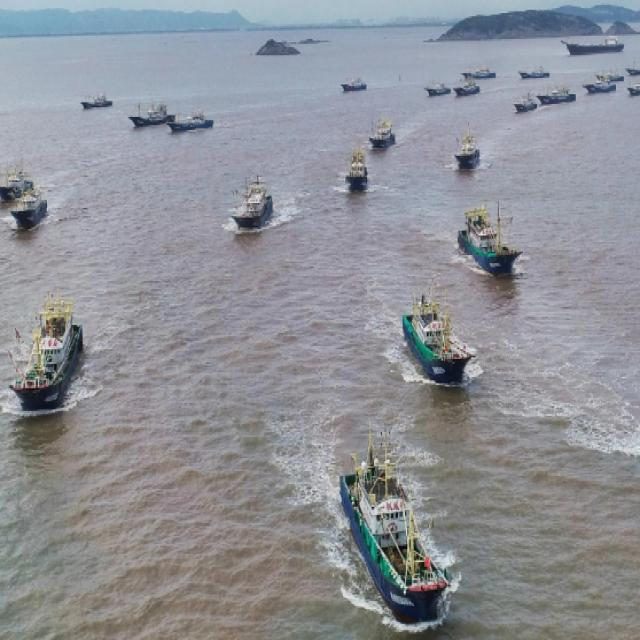fishing boat: (344, 419, 451, 623), (12, 295, 88, 402), (402, 282, 473, 381), (458, 202, 523, 271), (232, 173, 271, 230), (562, 32, 624, 56), (14, 184, 46, 229), (127, 97, 174, 127), (164, 107, 212, 133), (344, 147, 370, 191), (0, 166, 29, 203), (368, 120, 397, 148), (536, 86, 578, 105), (80, 85, 112, 109), (584, 76, 618, 94), (513, 93, 538, 116), (456, 77, 481, 98), (595, 68, 626, 82), (342, 76, 367, 90), (520, 68, 548, 80), (463, 68, 496, 78), (426, 82, 449, 96), (623, 60, 640, 75), (626, 81, 640, 96)
